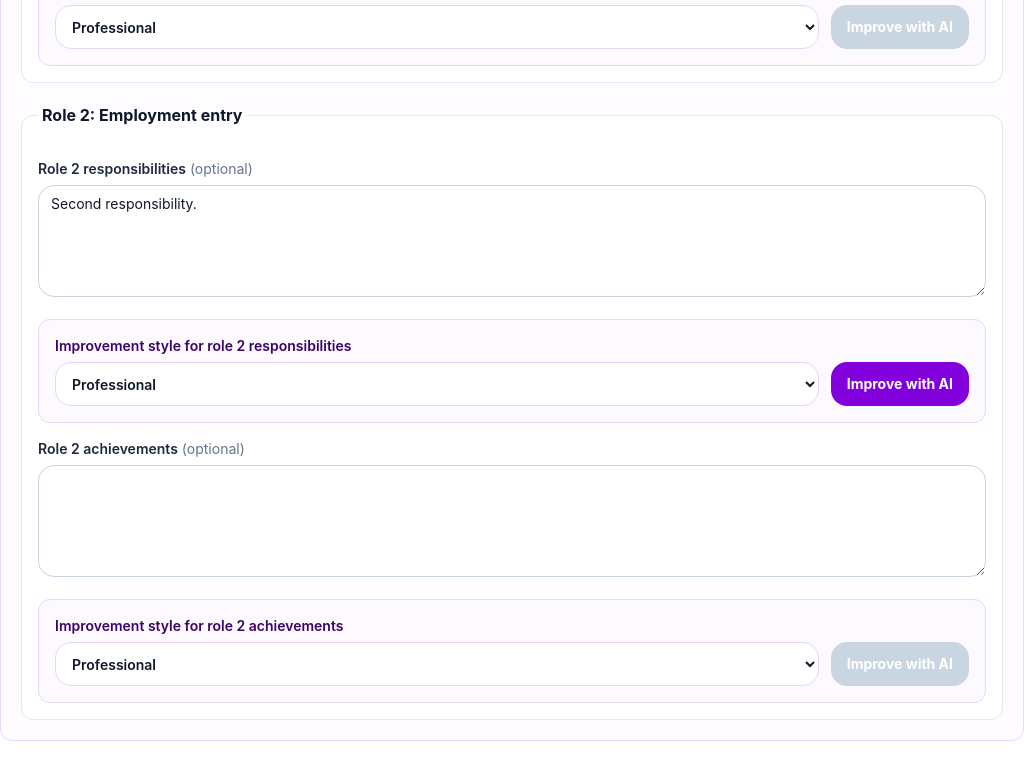
Test: controlled AI assistance › accepts a suggestion into only the selected repeatable entry
The width and height of the screenshot is (1024, 768).
(page scrolled)
Click the button with aria-label "Improve role 2 responsibilities with AI": {"x": 900, "y": 384} left=831, top=362, right=969, bottom=406
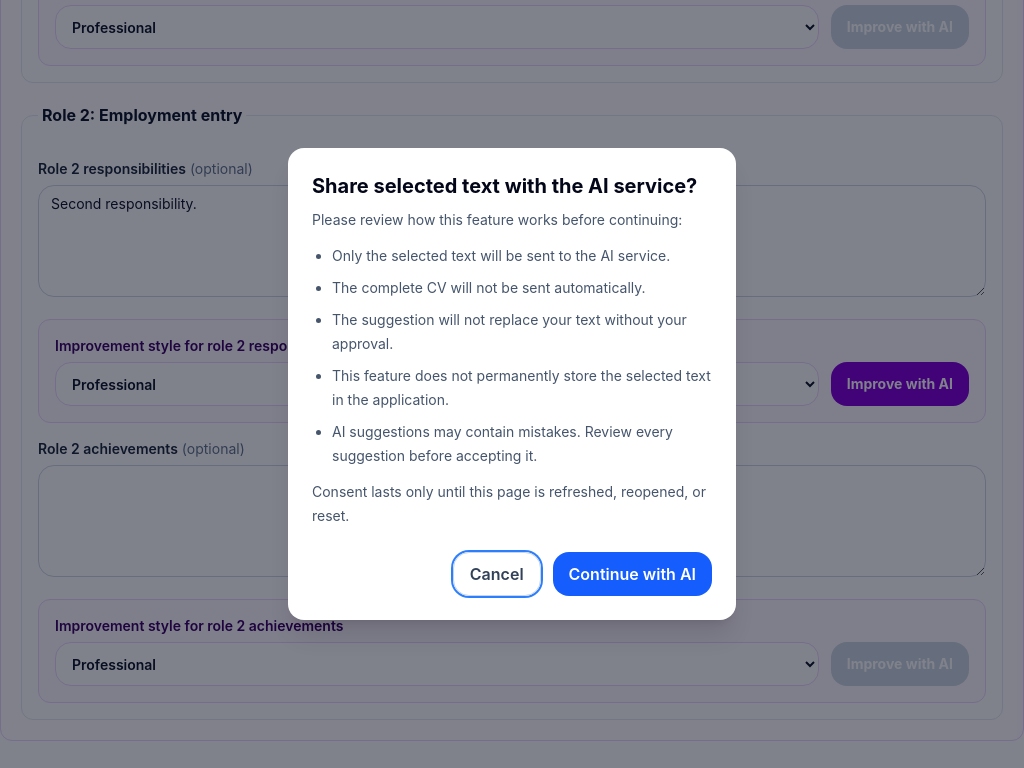
Click the button "Continue with AI": {"x": 632, "y": 574} left=553, top=552, right=712, bottom=596
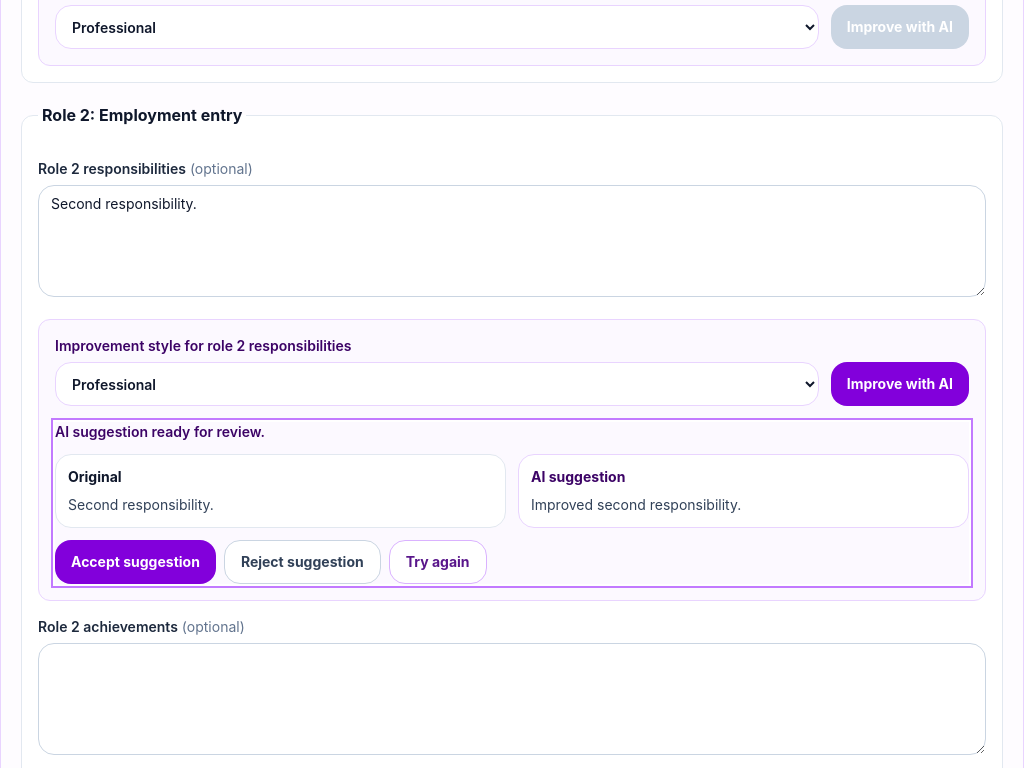
Click the button "Accept suggestion": {"x": 135, "y": 562} left=55, top=540, right=216, bottom=584
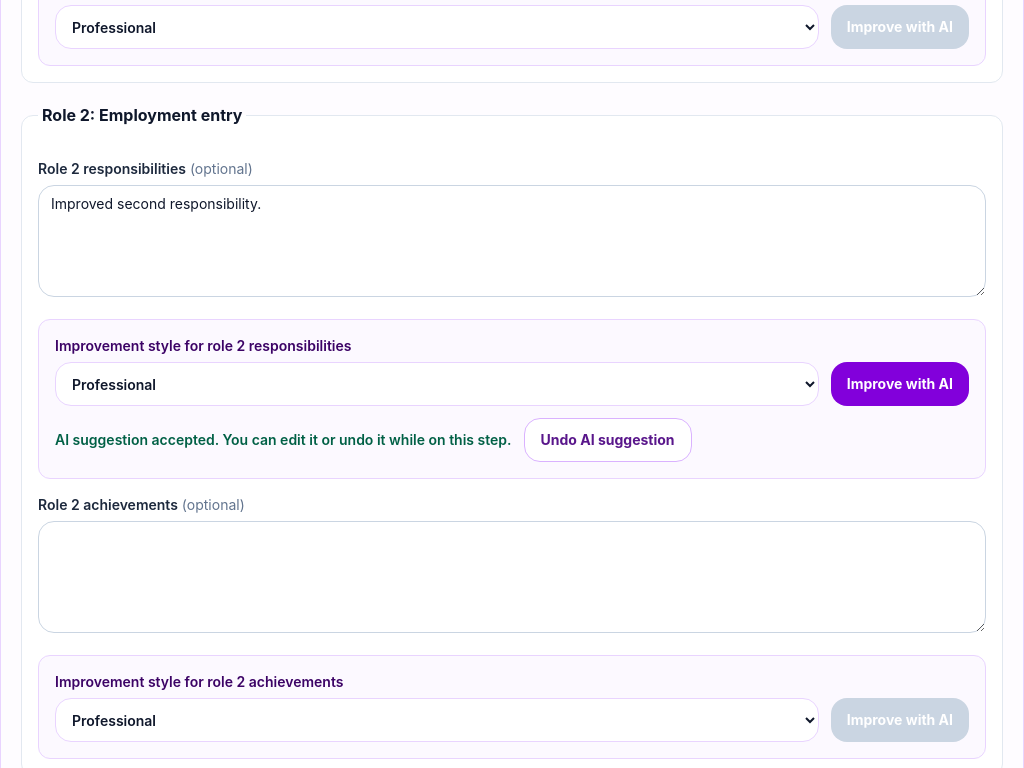
Expected: the text box labelled "Role 2 responsibilities(optional)" holds "Improved second responsibility.", left=38, top=185, right=986, bottom=297
